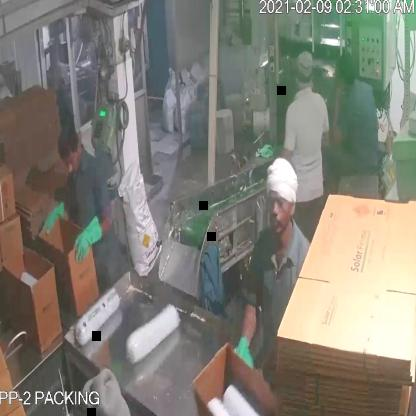glove: (69, 210, 112, 270), (37, 186, 69, 240)
